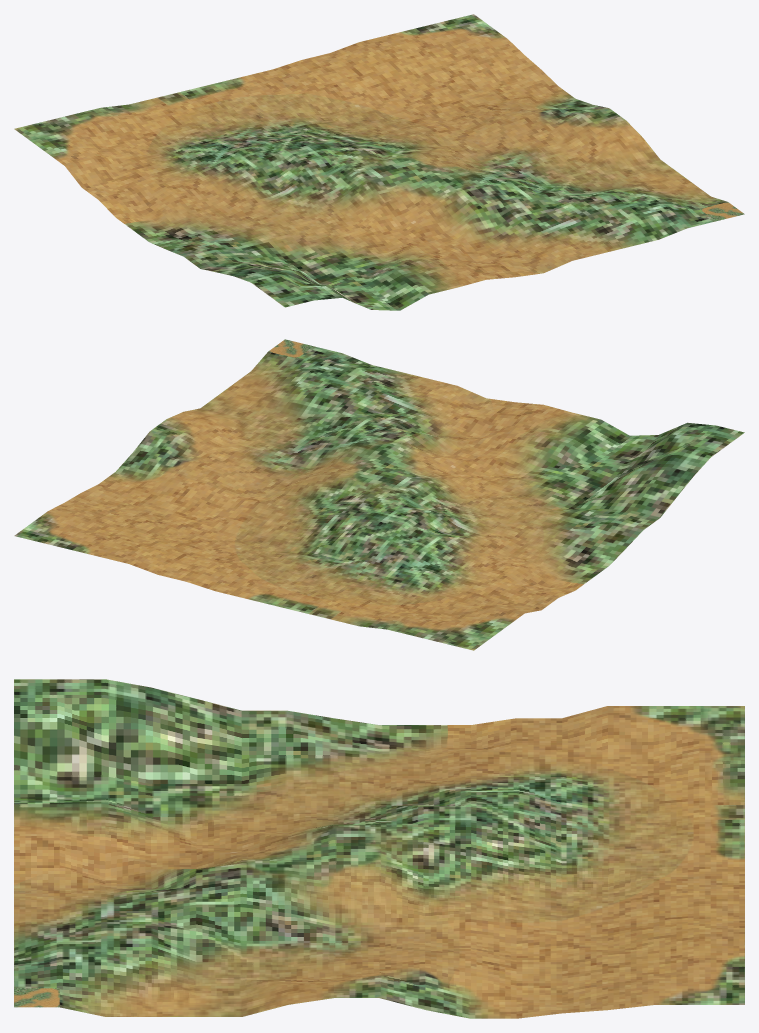
The model's file is Kartta1.fbx.
3 renders of one model, top to bottom at view 1: azimuth 30°, elevation 25°; view 2: azimuth 150°, elevation 25°; view 3: azimuth 270°, elevation 25°, orthographic. The views are drawn at different scales.
Visible parts, largest first — view 1: Plane001; view 2: Plane001; view 3: Plane001.
Boxes of the visible parts, bbox=[...] form: Plane001: bbox=[14, 14, 744, 310]; Plane001: bbox=[14, 339, 744, 650]; Plane001: bbox=[14, 679, 744, 1018].
Size of the model in its own units: 140 by 10.65 by 143.
Materials: 1 (1 with a texture image).
